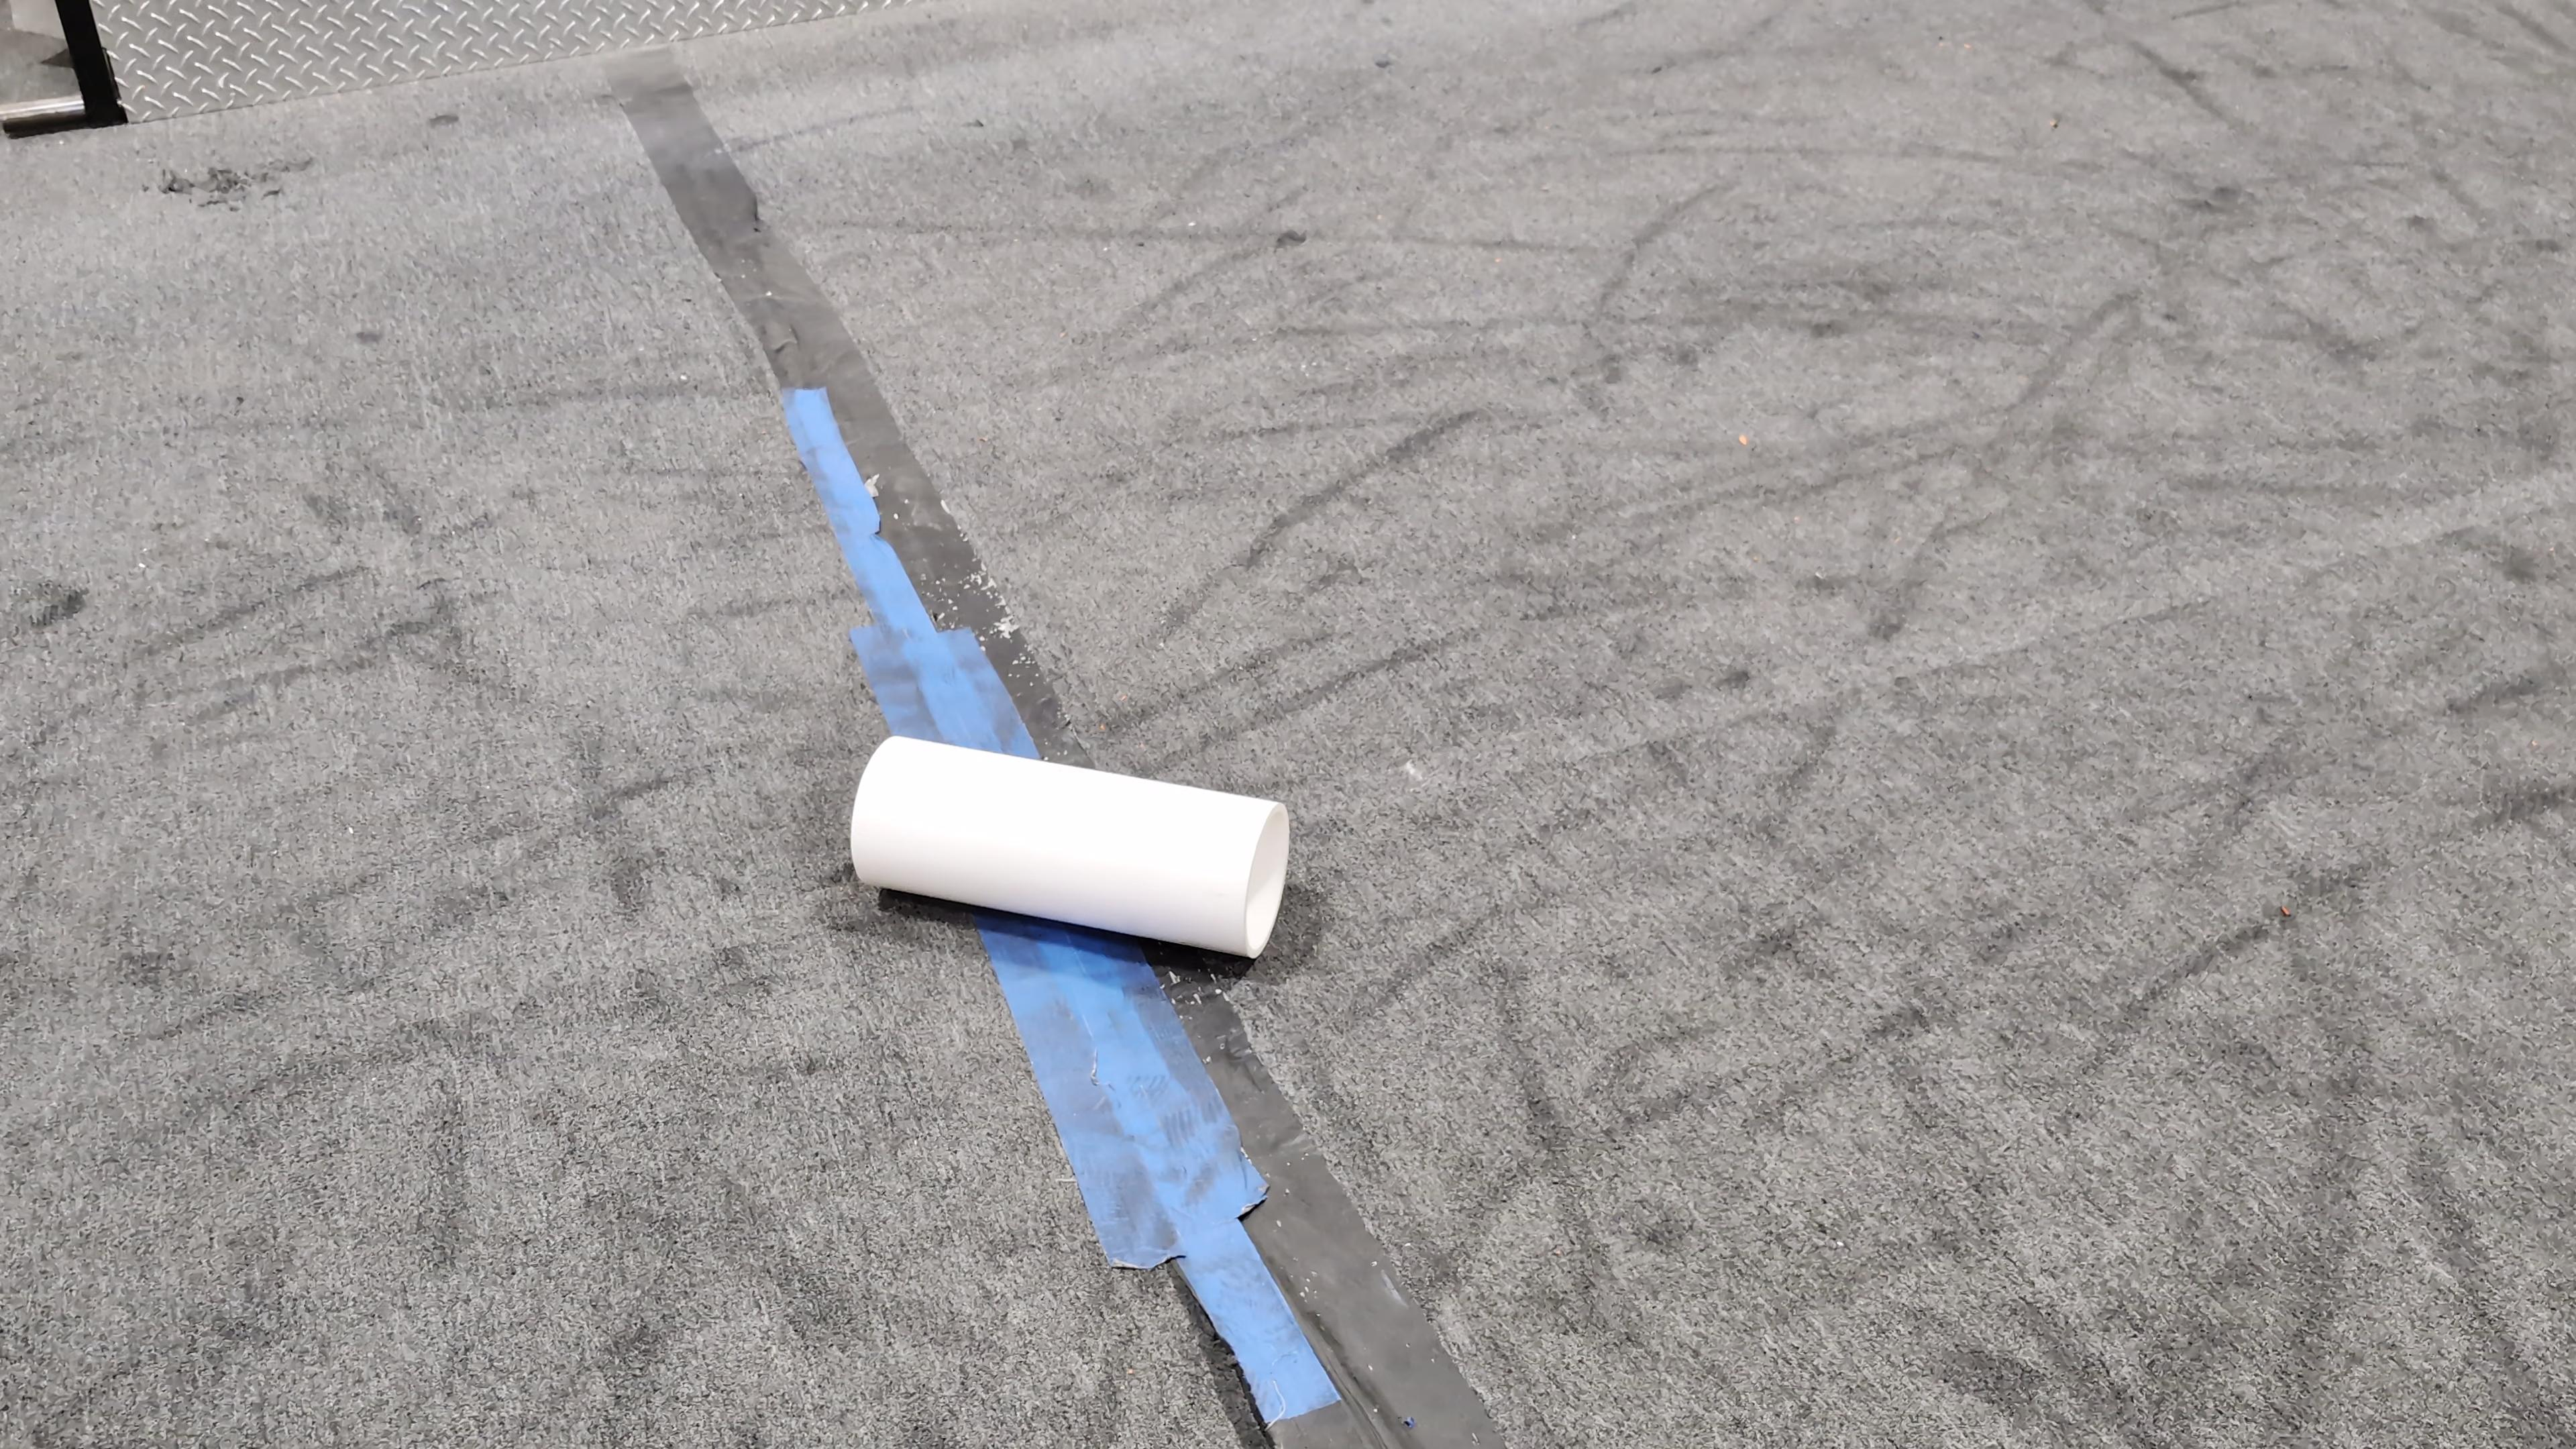coral: (853, 734, 1290, 959)
